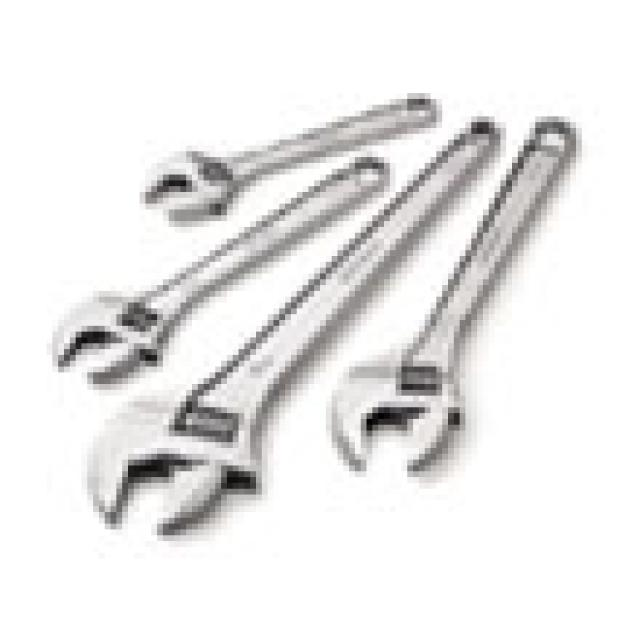wrench: (35, 76, 640, 558)
